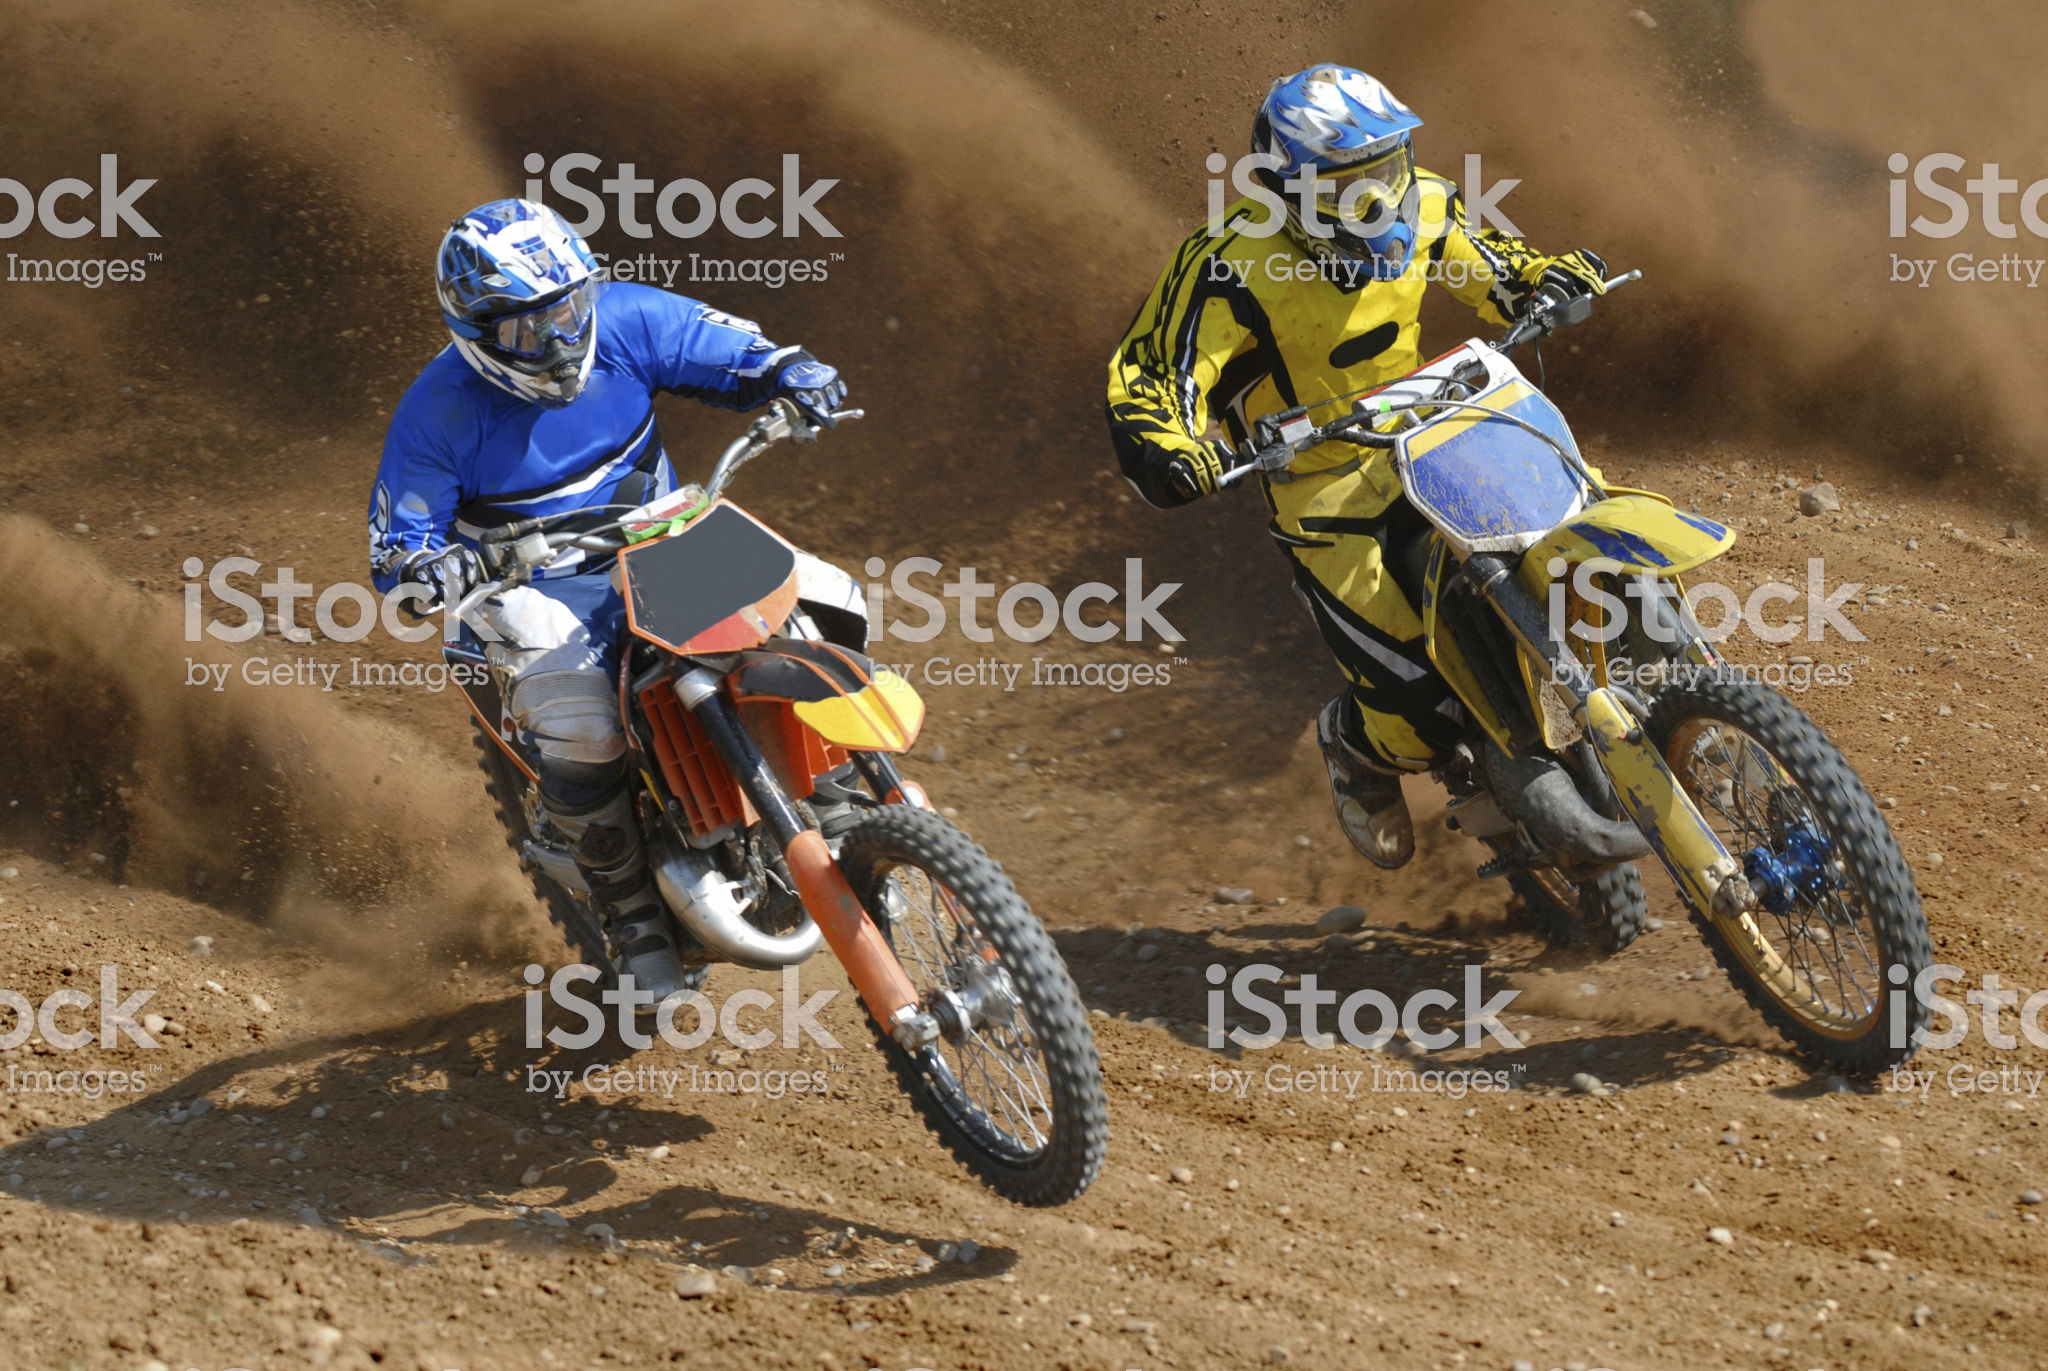helmet: (428, 197, 615, 433), (1250, 63, 1430, 285)
